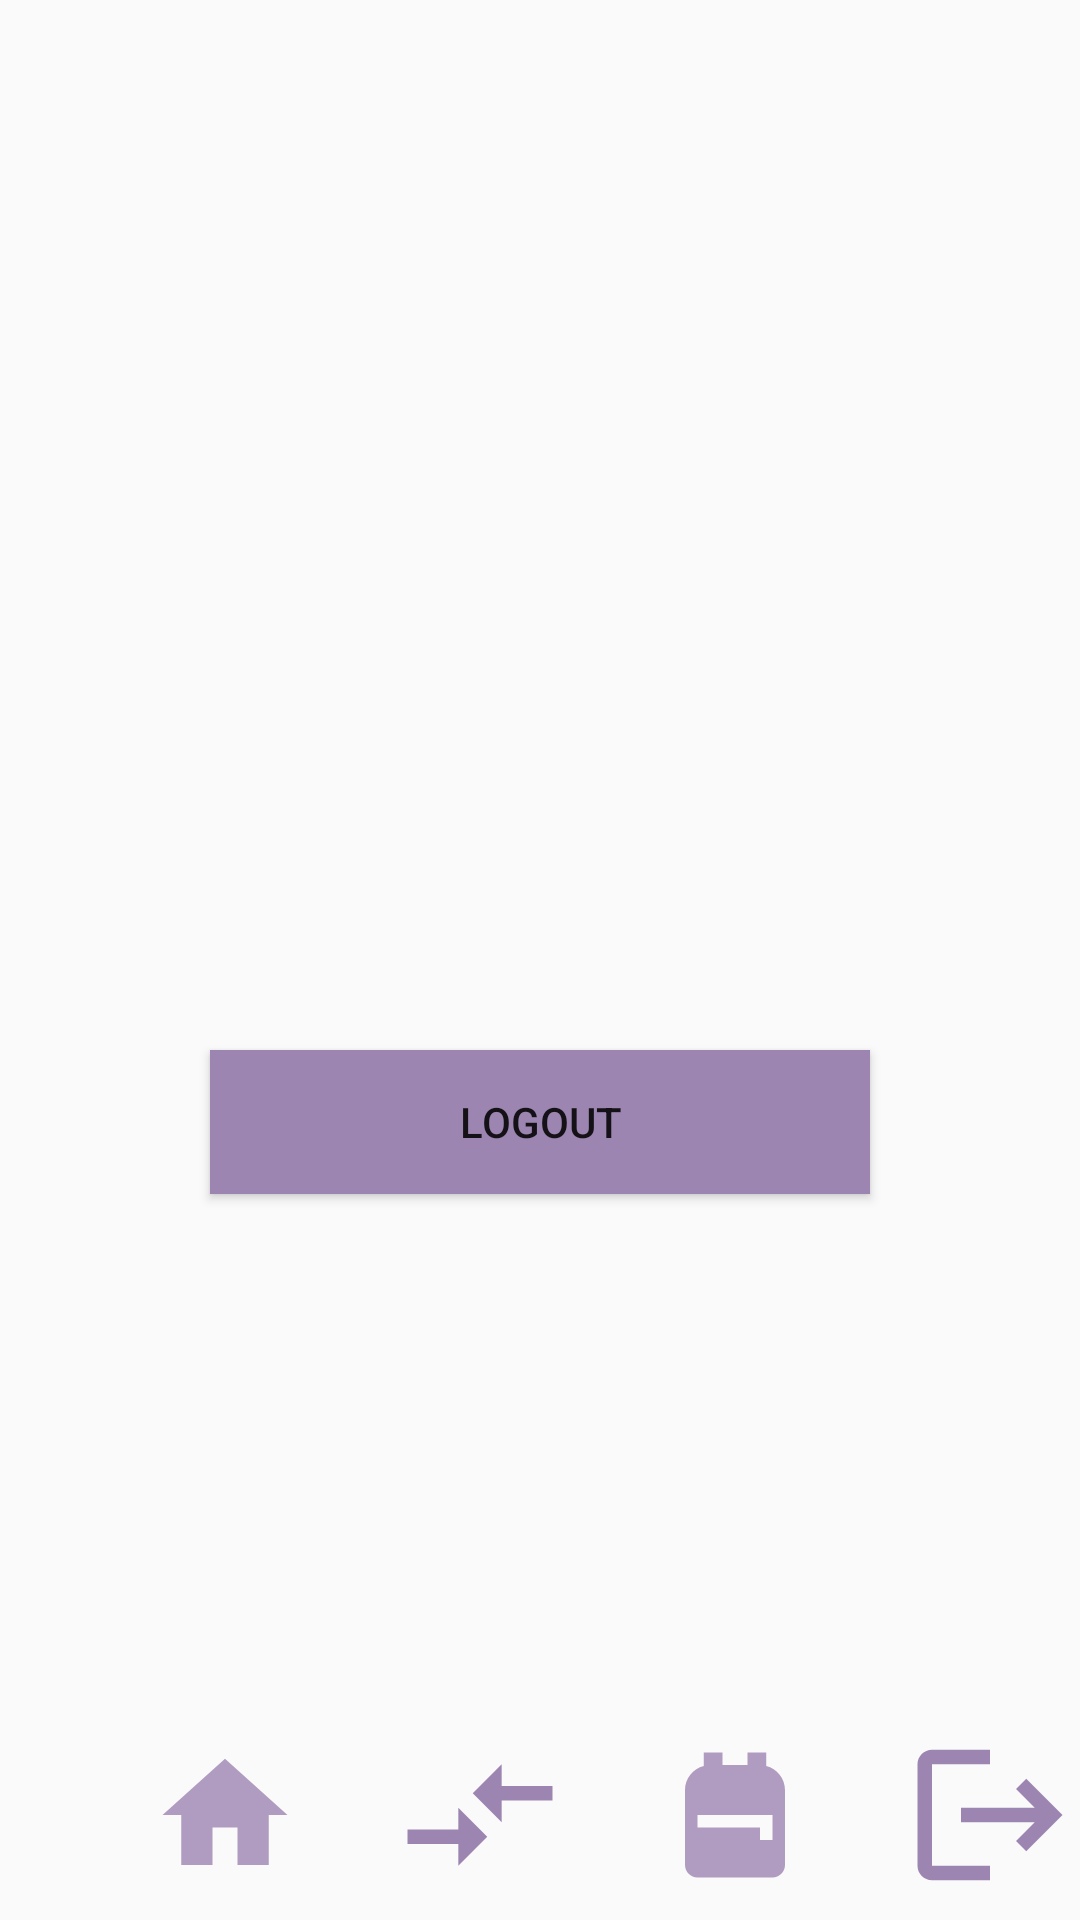

Named icons in this screenshot (1080*1920) and their bounding boxes, (x1, y1, x2, y2):
Home Button: (163, 1759, 287, 1865)
Inventory Button: (685, 1752, 785, 1878)
Trade Block Button: (407, 1764, 553, 1866)
